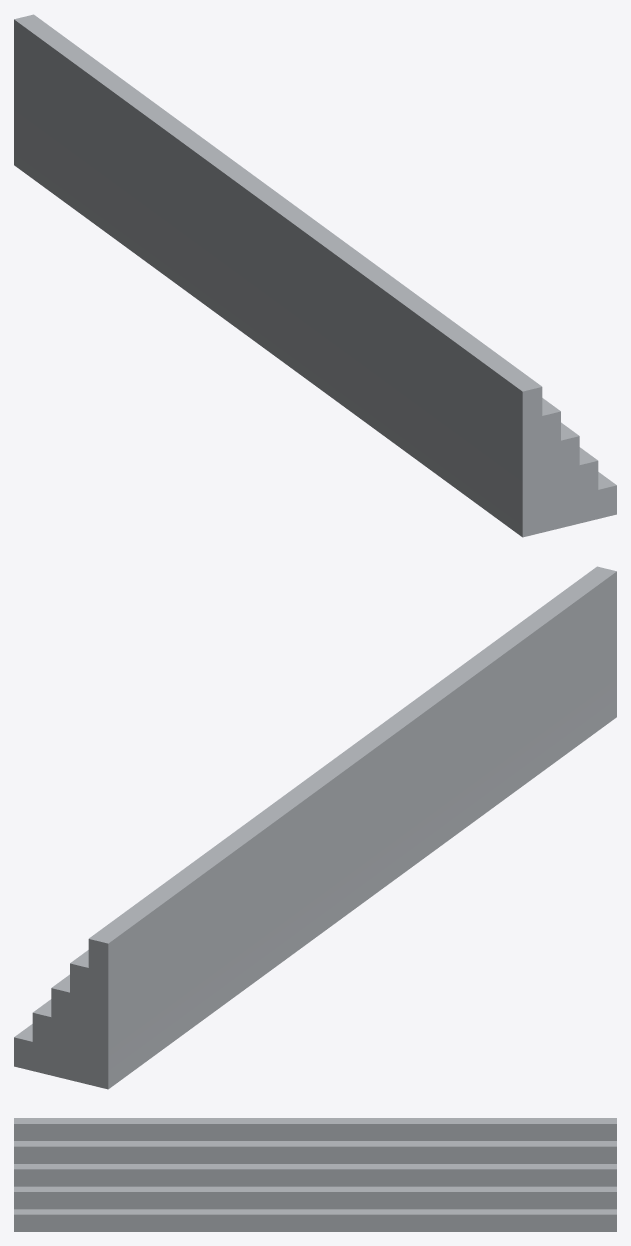
The model's file is ground_12.gltf.
3 renders of one model, top to bottom at view 1: azimuth 30°, elevation 25°; view 2: azimuth 150°, elevation 25°; view 3: azimuth 270°, elevation 25°, orthographic. The views are drawn at different scales.
Parts seen in each view (by area): view 1: ground_34; view 2: ground_34; view 3: ground_34.
Boxes of the visible parts, box(x1,y1,x2,y2) form: ground_34: box(14, 14, 616, 537); ground_34: box(14, 566, 616, 1089); ground_34: box(14, 1118, 616, 1231).
Size of the model in its own units: 0.6342 by 0.9369 by 5.92.
Materials: 1 (1 with a texture image).
